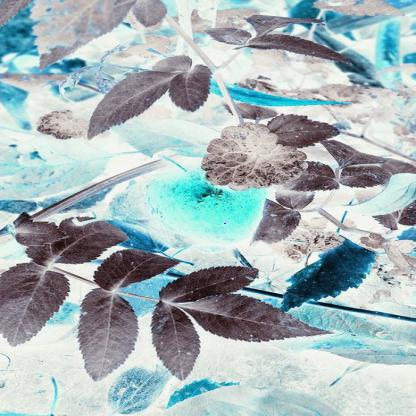Apple leaf: (146, 256, 342, 389), (1, 254, 77, 376), (90, 64, 174, 150), (74, 286, 136, 388), (37, 210, 133, 274), (100, 245, 181, 292), (163, 68, 217, 116)
